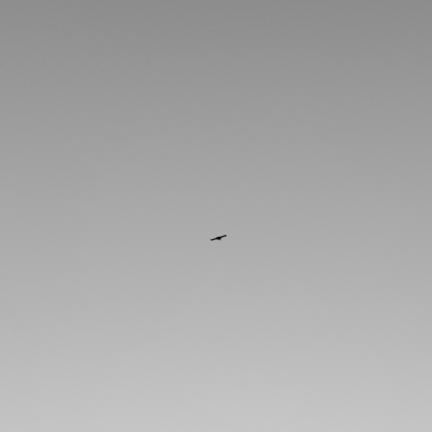Shahed: (211, 236, 226, 240)
